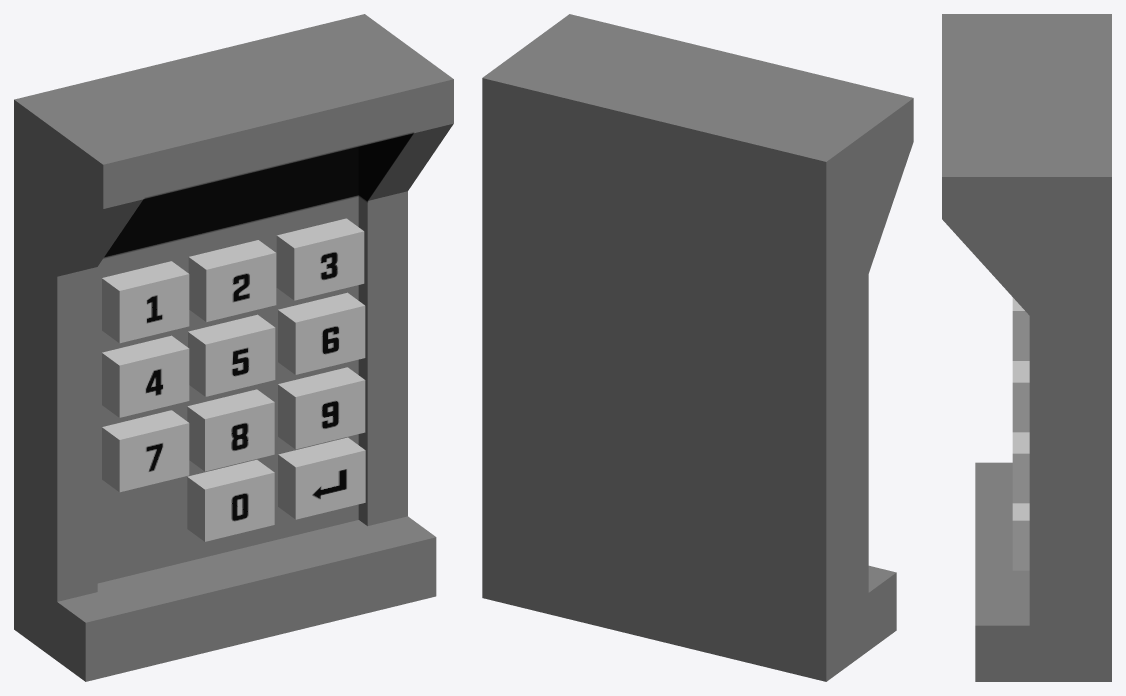
File: pass.fbx
3 renders of one model, left to right at view 1: azimuth 30°, elevation 25°; view 2: azimuth 150°, elevation 25°; view 3: azimuth 270°, elevation 25°, orthographic. The views are drawn at different scales.
Parts seen in each view (by area): view 1: Cube, Cube.003, Cube.002, Cube.011, Cube.001, Cube.010, Cube.004, Cube.006, Cube.007, Cube.009, Cube.005, Cube.008; view 2: Cube; view 3: Cube, Cube.006, Cube.007, Cube.011, Cube.003.
Boxes of the visible parts, x1,y1,x2,y2 form: Cube: [14, 14, 453, 681]; Cube.003: [276, 218, 364, 300]; Cube.002: [188, 240, 276, 321]; Cube.011: [278, 437, 365, 519]; Cube.001: [102, 261, 189, 343]; Cube.010: [187, 459, 274, 541]; Cube.004: [102, 335, 189, 417]; Cube.006: [278, 292, 365, 374]; Cube.007: [278, 367, 365, 449]; Cube.009: [102, 410, 189, 492]; Cube.005: [188, 314, 275, 396]; Cube.008: [187, 389, 274, 471]; Cube: [482, 14, 913, 681]; Cube: [942, 14, 1111, 681]; Cube.006: [1012, 361, 1029, 432]; Cube.007: [1012, 432, 1029, 503]; Cube.011: [1012, 503, 1029, 570]; Cube.003: [1012, 297, 1029, 360].
Size of the model in its own units: 326 by 471 by 144.
Materials: 12 (12 with a texture image).
